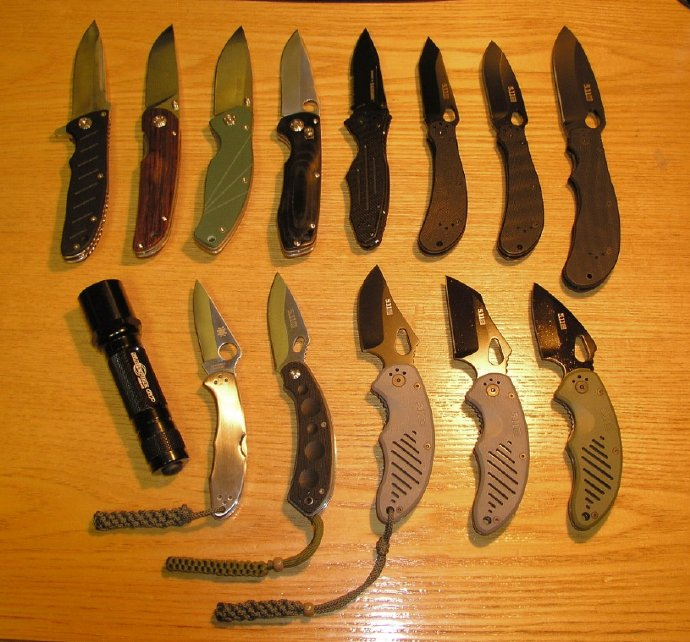knief: (343, 267, 450, 524)
